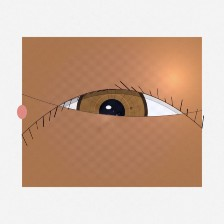pinguecula_lesion: (32, 96, 78, 133)
